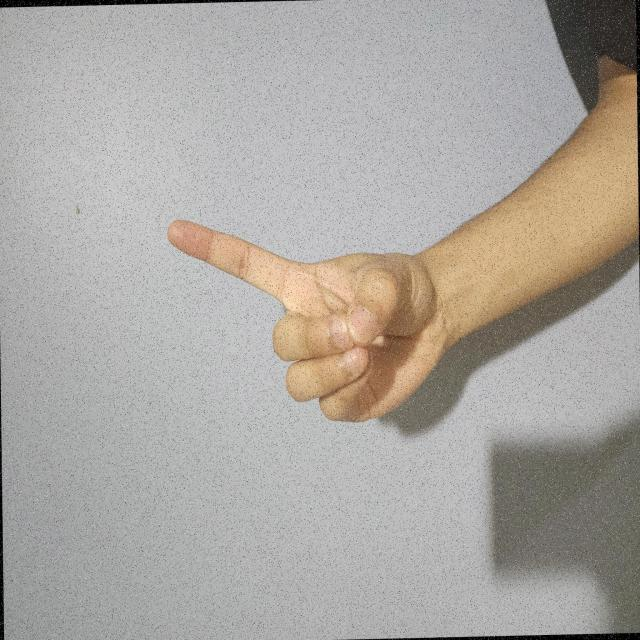D: (161, 220, 325, 614)
